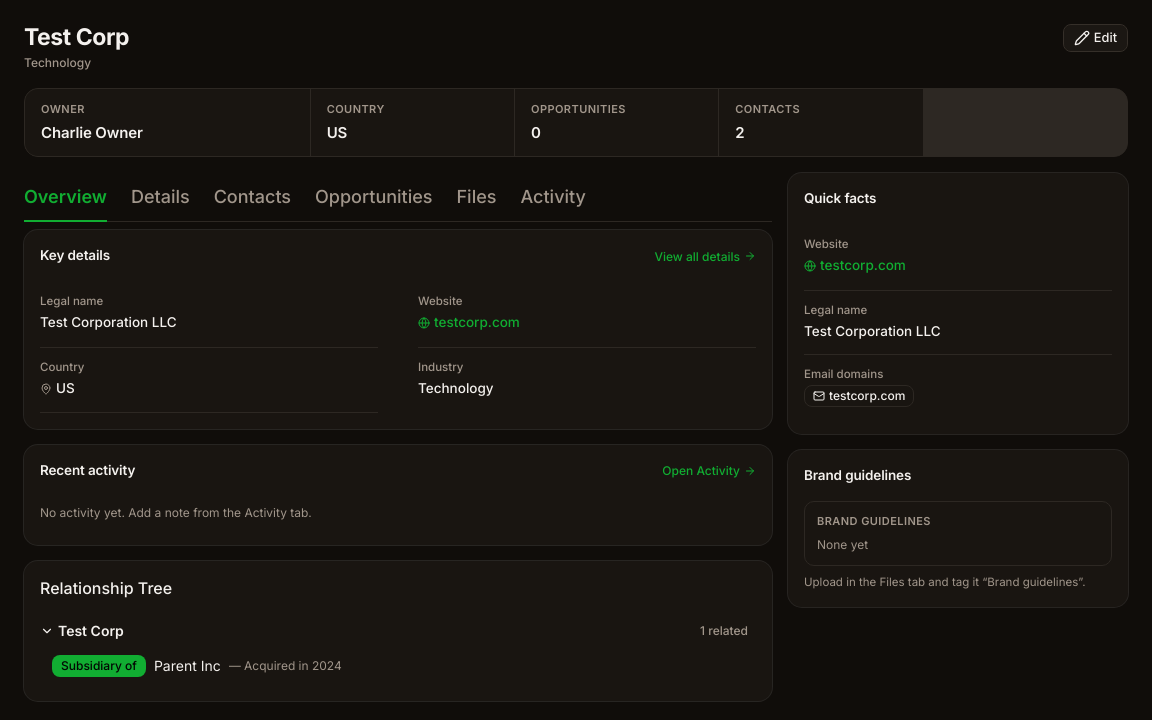
Test: AccountDetailWrapper › opportunities tab › shows an empty state when there are no opportunities
Click the tab "Opportunities": point(374, 198) [315, 173, 432, 222]
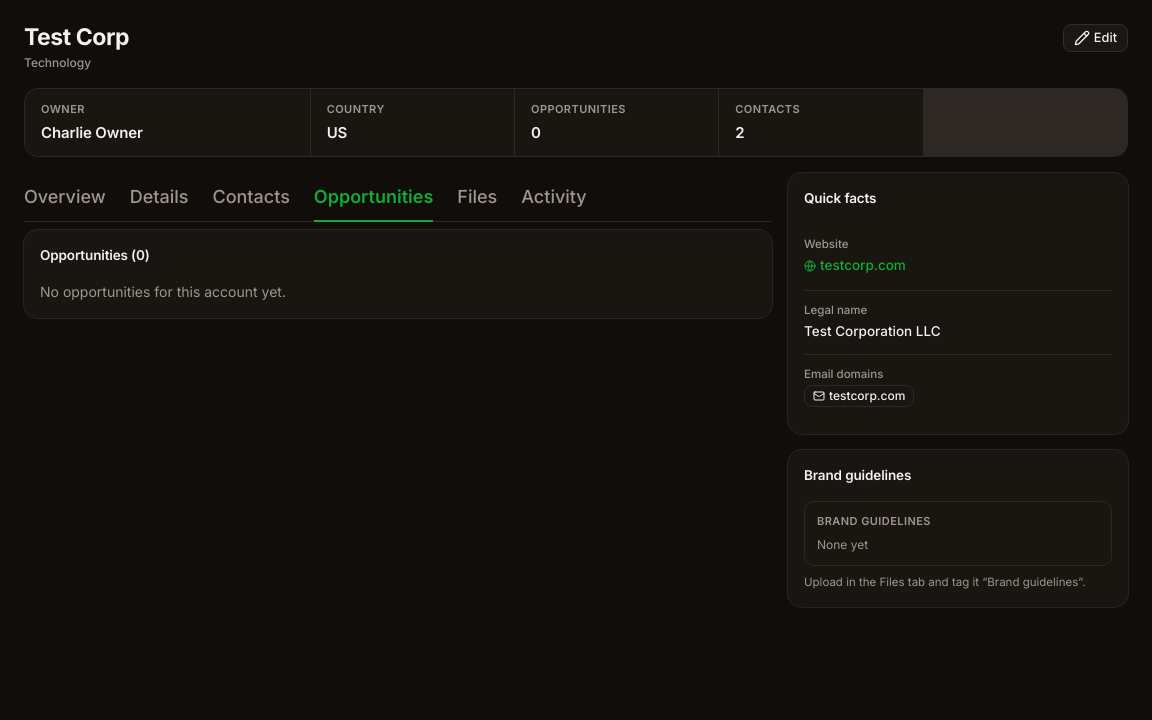
Now the text "No opportunities for this account yet." is shown, box [40, 283, 286, 300]
